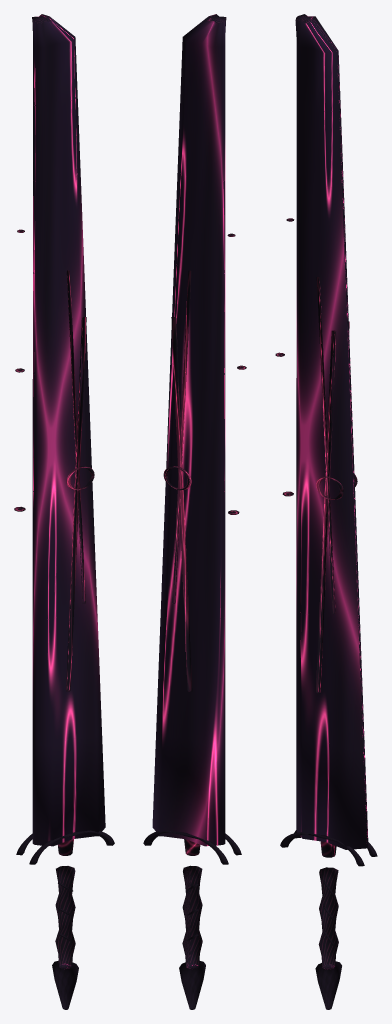
Rendered from sword_13_voidscar.glb.
The picture shows the model from 3 angles, left to right: view 1: azimuth 30°, elevation 25°; view 2: azimuth 150°, elevation 25°; view 3: azimuth 330°, elevation 25°; orthographic projection.
Visible parts, largest first — view 1: Blade_Voidscar, Scar_CosmicCross, Grip_ScarStitches, Pommel_VoidDrop, Guard_TornArc; view 2: Blade_Voidscar, Scar_CosmicCross, Grip_ScarStitches, Pommel_VoidDrop, Guard_TornArc; view 3: Blade_Voidscar, Scar_CosmicCross, Grip_ScarStitches, Pommel_VoidDrop, Guard_TornArc.
Boxes of the visible parts, x1,y1,x2,y2 form: Blade_Voidscar: [32, 14, 105, 846]; Scar_CosmicCross: [66, 270, 94, 691]; Grip_ScarStitches: [55, 866, 75, 969]; Pommel_VoidDrop: [52, 960, 78, 1009]; Guard_TornArc: [16, 830, 114, 864]; Blade_Voidscar: [152, 14, 226, 846]; Scar_CosmicCross: [163, 270, 192, 691]; Grip_ScarStitches: [182, 865, 202, 969]; Pommel_VoidDrop: [179, 960, 205, 1009]; Guard_TornArc: [143, 830, 241, 864]; Blade_Voidscar: [295, 14, 368, 849]; Scar_CosmicCross: [316, 277, 357, 693]; Grip_ScarStitches: [318, 867, 338, 969]; Pommel_VoidDrop: [315, 961, 341, 1009]; Guard_TornArc: [280, 830, 377, 866].
Bounding box in the file's own units: 0.2587 × 2.6 × 0.079.
1 material, 1 textured.
